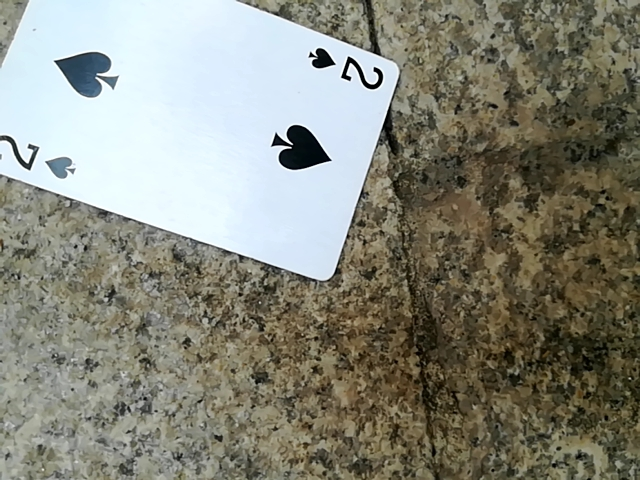ht 2: (0, 0, 402, 283)
